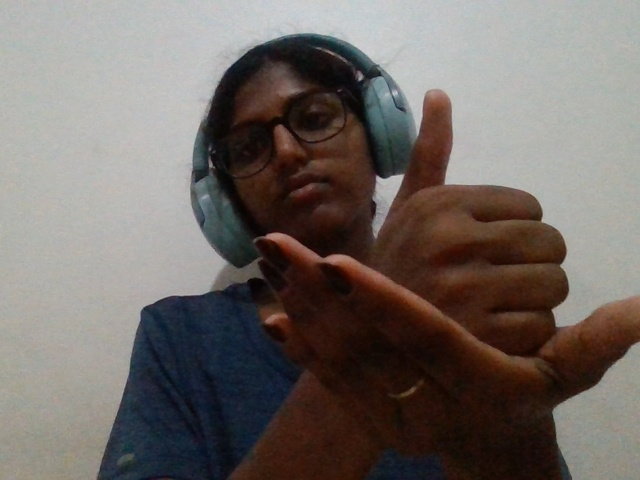Help: (181, 74, 640, 469)
